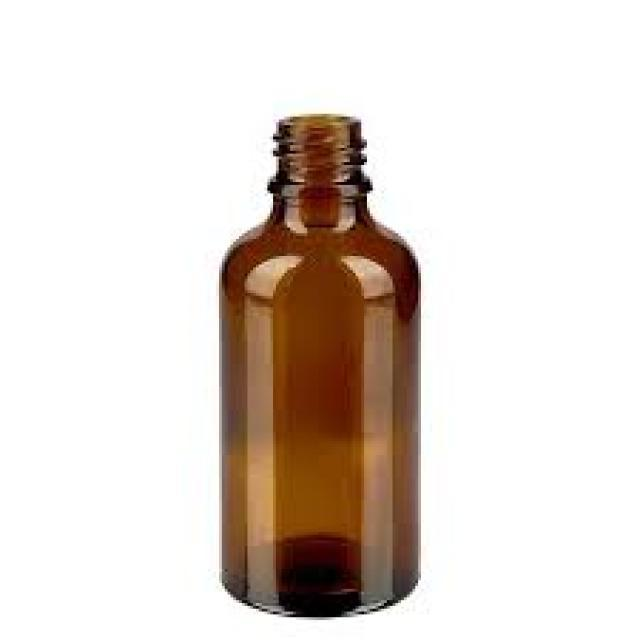Glass: (219, 116, 420, 618)
